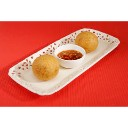bonda: (33, 55, 61, 80), (77, 31, 98, 53)
